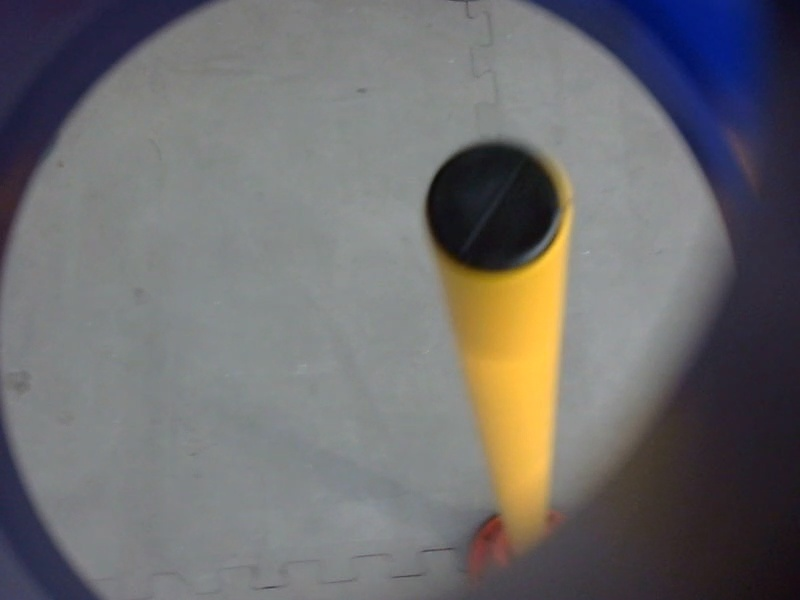tip: (412, 125, 586, 291)
